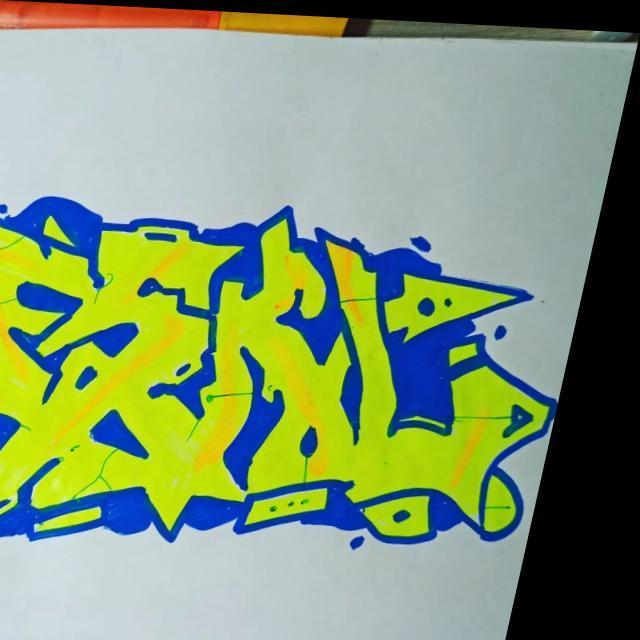-: (0, 170, 610, 582)
